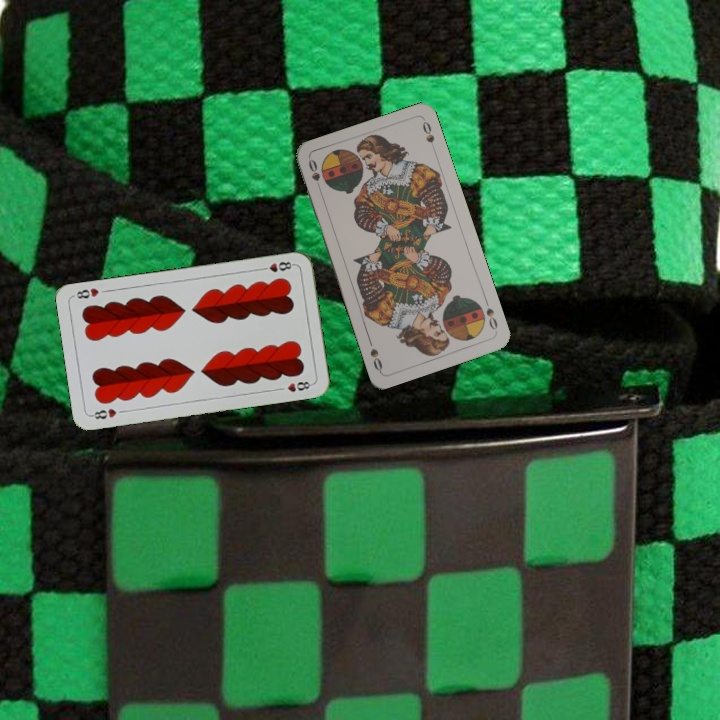H8: (256, 257, 297, 275), (87, 404, 119, 422)
SO: (304, 155, 325, 195), (481, 295, 500, 332)
